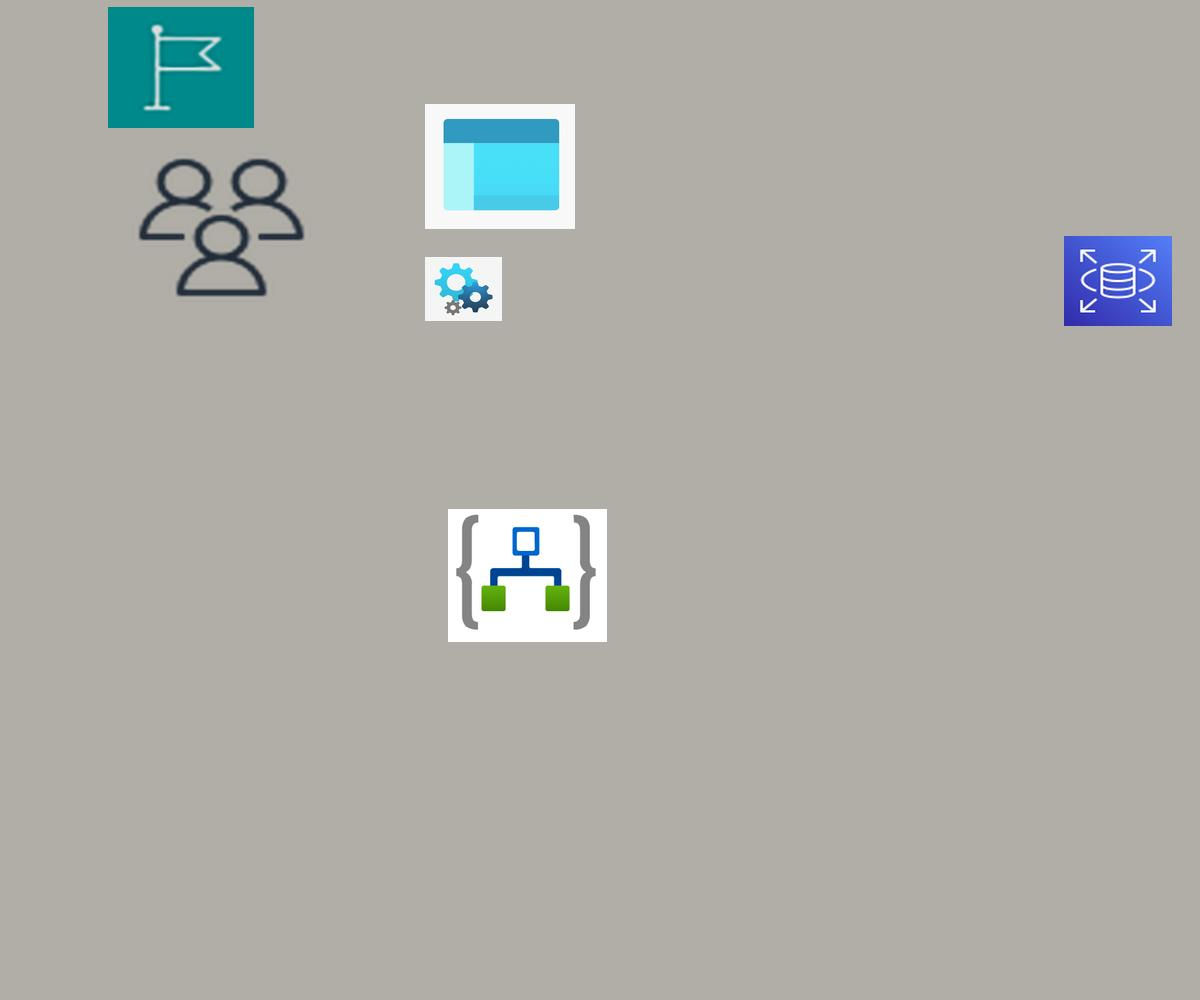AWS-RDS: (1064, 236, 1172, 326)
AWS-Region: (108, 7, 254, 128)
AWS-Res_Users: (132, 153, 311, 302)
Azure_api: (425, 257, 502, 321)
Azure_integration-204-Logic-Apps: (448, 509, 607, 642)
Azure_management-portal: (425, 104, 575, 229)
